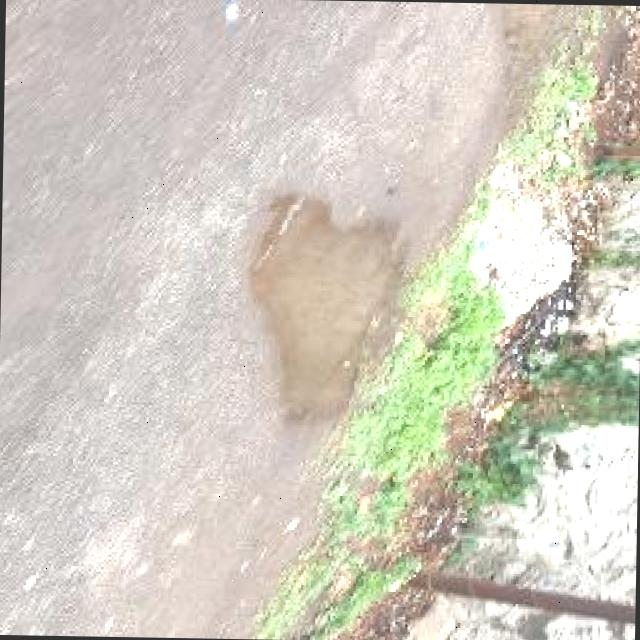stagnation: (243, 180, 411, 443)
